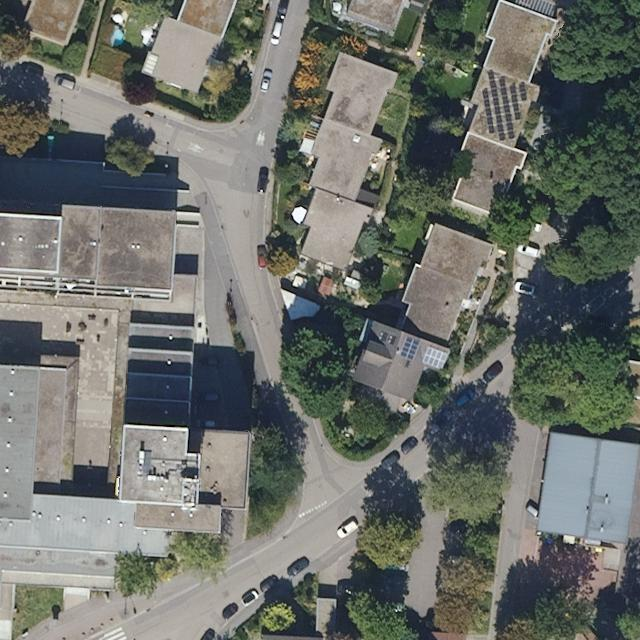PV: (479, 68, 529, 142), (400, 334, 422, 361)
